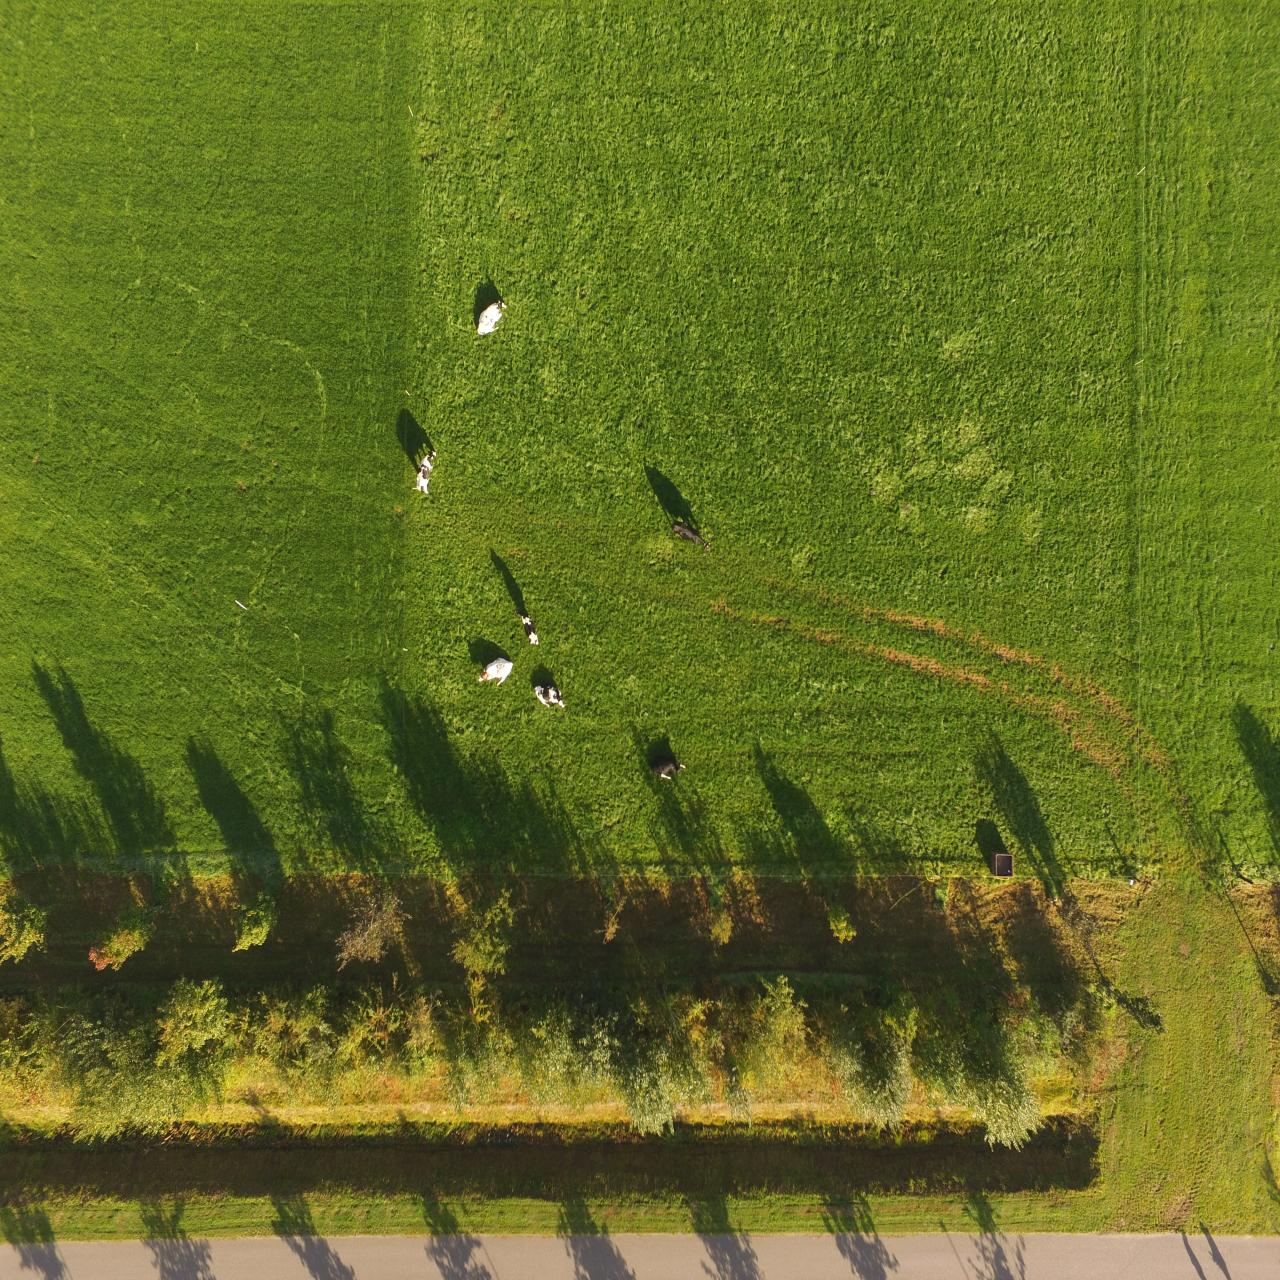cow: (472, 291, 509, 346), (475, 655, 524, 694), (669, 509, 713, 552), (410, 444, 440, 497), (531, 675, 570, 715), (651, 747, 685, 787), (515, 602, 537, 648)
